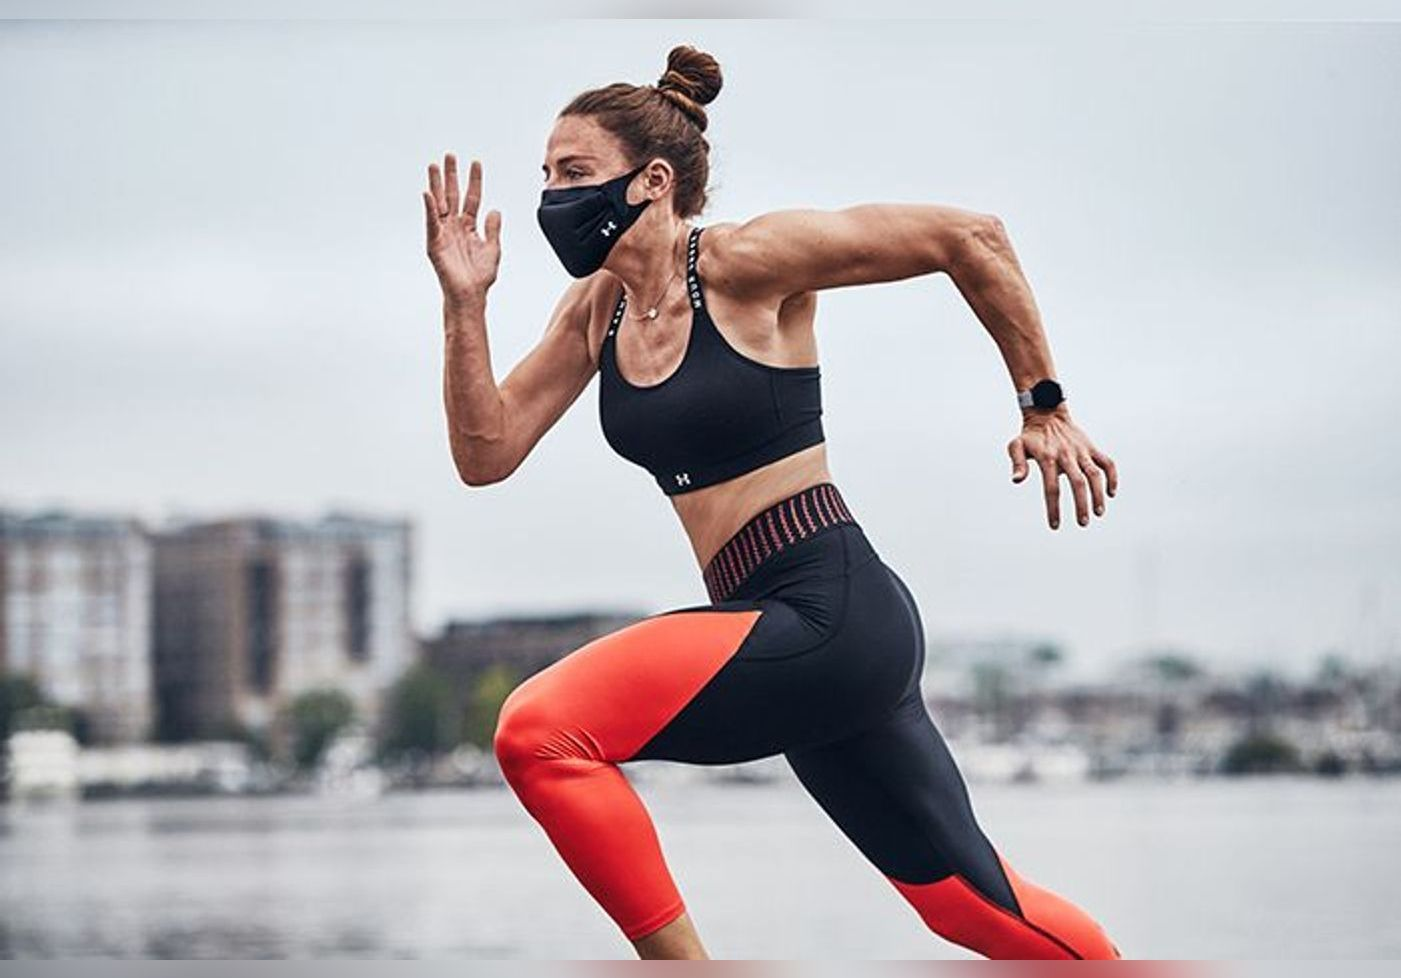with_mask: (531, 130, 668, 283)
